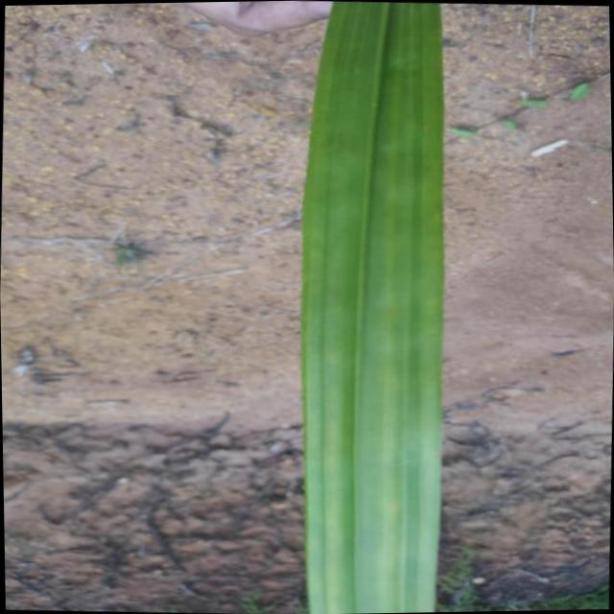nitrogen: (301, 0, 444, 614)
